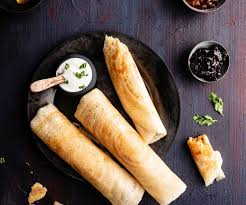dosa: (34, 38, 187, 205)
